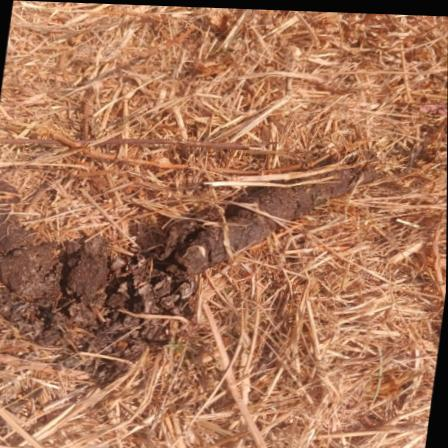dog-poop: (168, 142, 377, 286), (2, 249, 163, 335)
